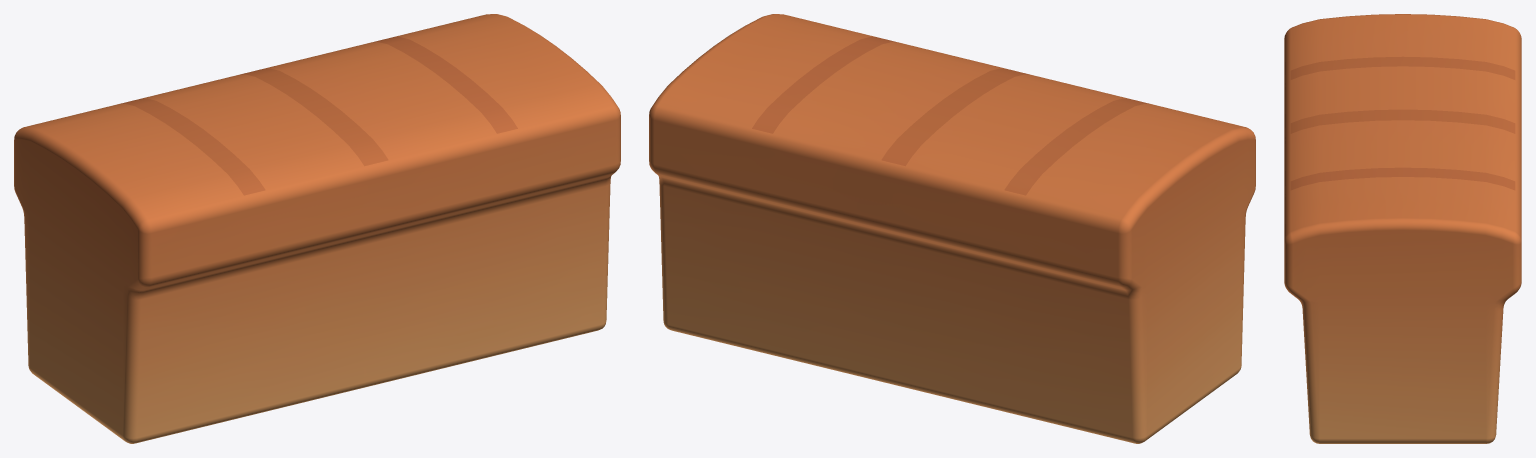
The model's file is bread.fbx.
3 views of the same model, side by side, from view 1: azimuth 30°, elevation 25°; view 2: azimuth 150°, elevation 25°; view 3: azimuth 270°, elevation 25° (orthographic). The views are drawn at different scales.
Parts seen in each view (by area): view 1: pCube9; view 2: pCube9; view 3: pCube9.
Boxes of the visible parts, x1,y1,x2,y2 form: pCube9: (14,14,620,443); pCube9: (649,14,1255,443); pCube9: (1284,14,1521,443).
Bounding box in the file's own units: 37.53 × 18.69 × 17.86.
